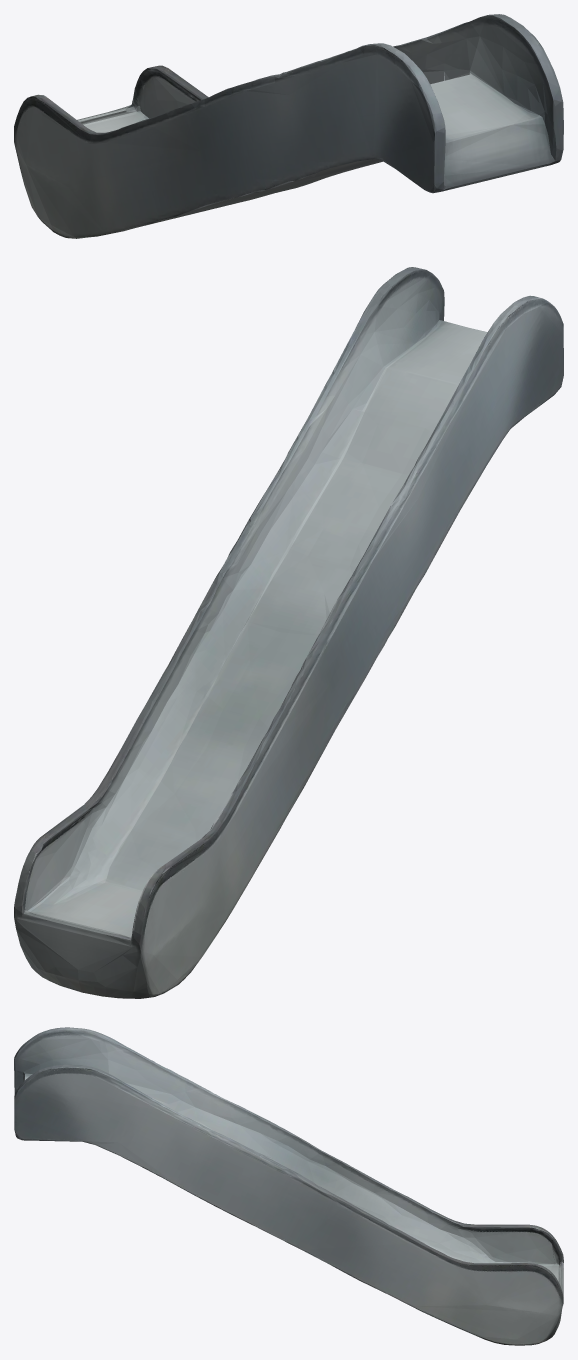
3 renders of one model, top to bottom at view 1: azimuth 30°, elevation 25°; view 2: azimuth 150°, elevation 25°; view 3: azimuth 270°, elevation 25°, orthographic. The views are drawn at different scales.
Parts seen in each view (by area): view 1: geometry_0; view 2: geometry_0; view 3: geometry_0.
Boxes of the visible parts, x1,y1,x2,y2 form: geometry_0: (14,14,563,238); geometry_0: (14,267,563,998); geometry_0: (14,1027,563,1345).
Bounding box in the file's own units: 0.1778 × 0.5599 × 0.9989.
Materials: 1 (1 with a texture image).
